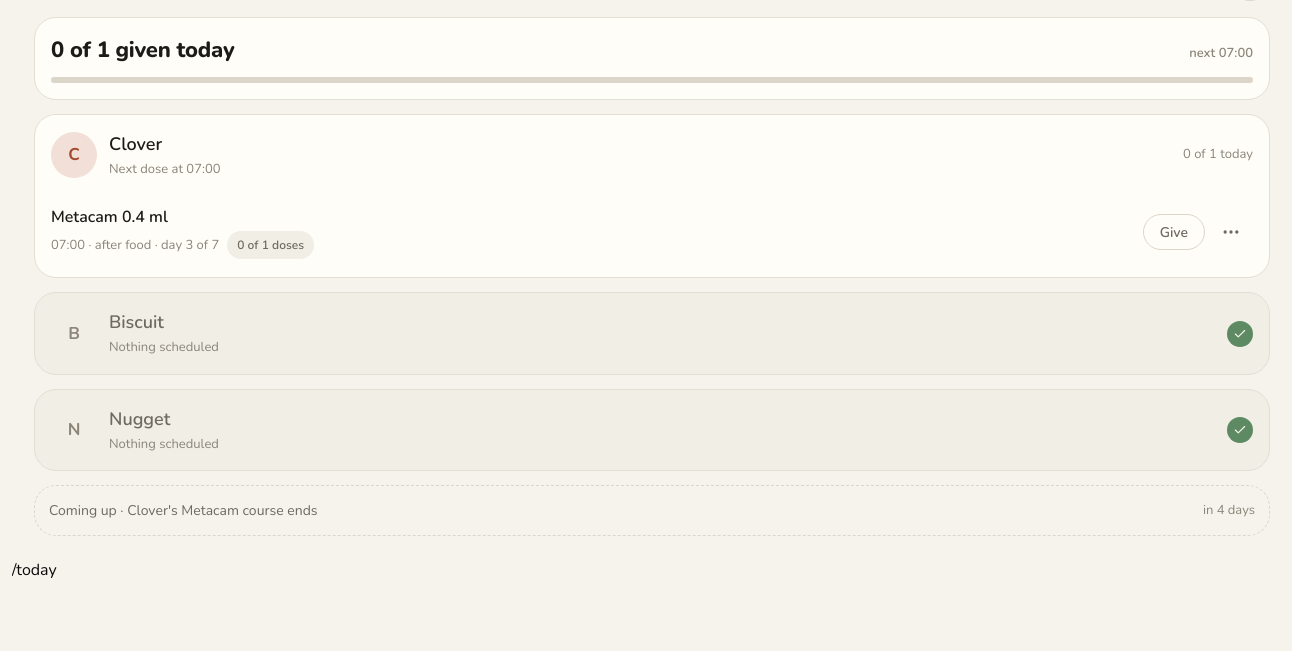
Test: TodayPage › logs a not-yet-due (later) dose normally when nothing conflicts
This screenshot has width=1292, height=651.
Click the button "Give" at (1174, 232), box top-left (1143, 214), bottom-right (1205, 250)
(page scrolled)
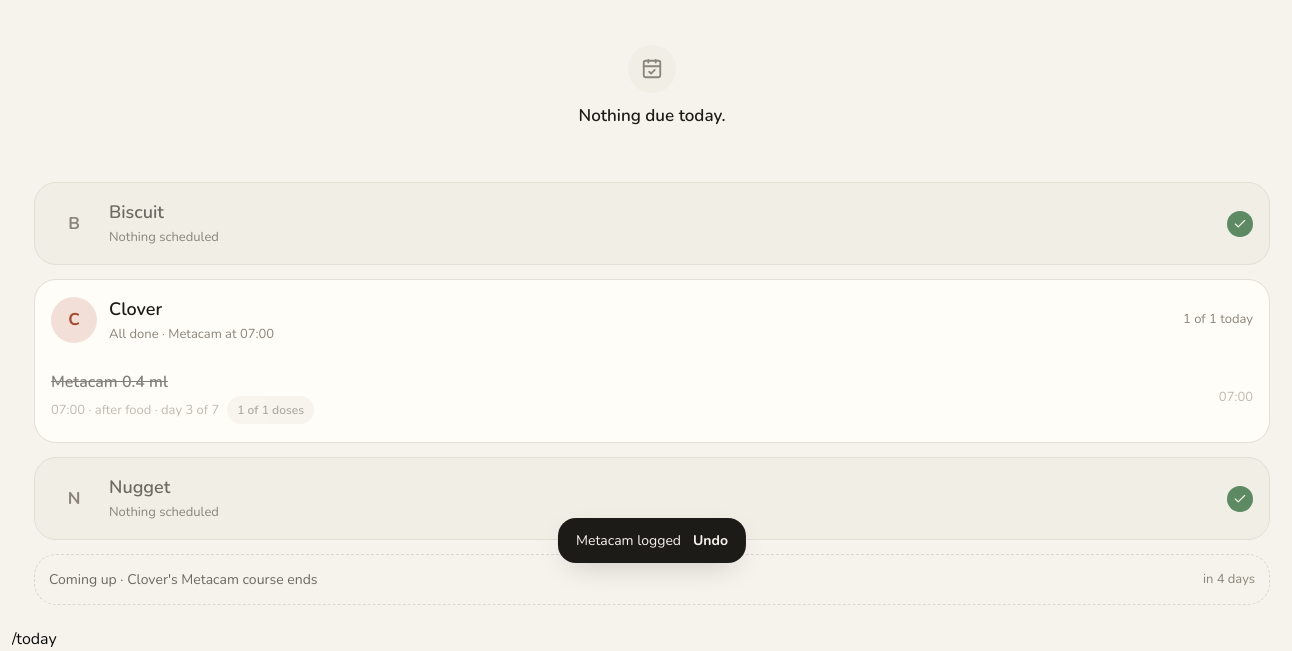
Expected: the text with test id "pathname" reads "/today", top-left (12, 628), bottom-right (57, 650)
Result: the message shows "Metacam logged" at top-left (576, 531), bottom-right (681, 550)
Result: the button "Undo" is shown at top-left (693, 530), bottom-right (728, 551)
